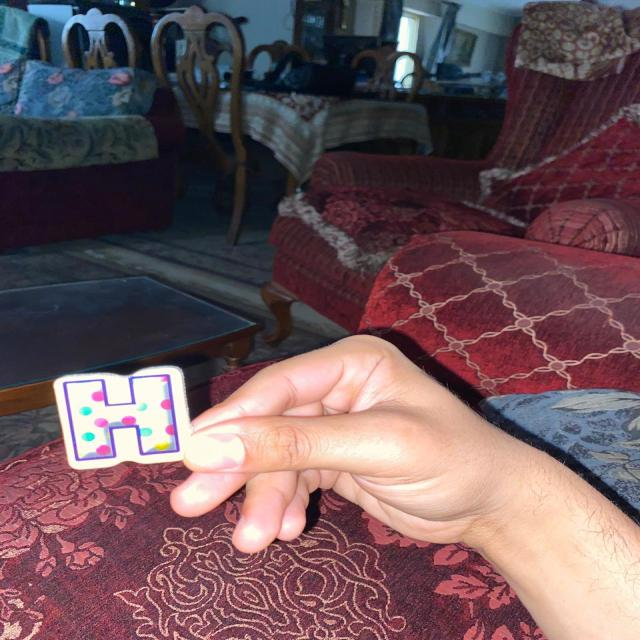H: (54, 366, 189, 469)
